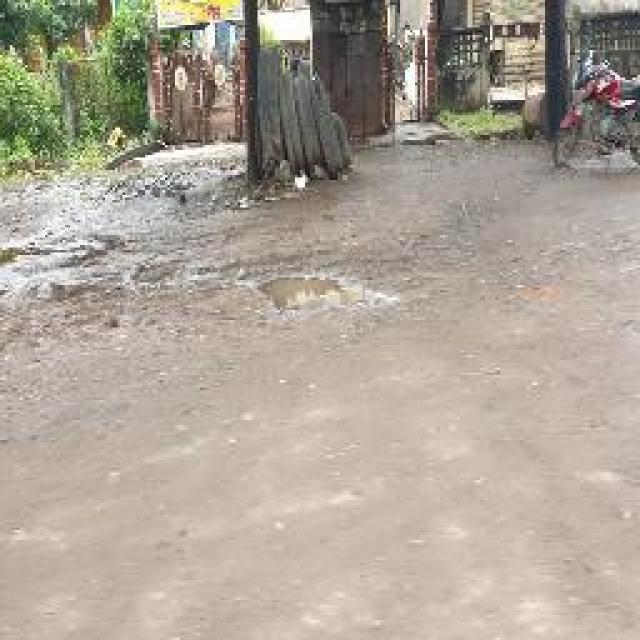waterlogging: (250, 260, 389, 326)
